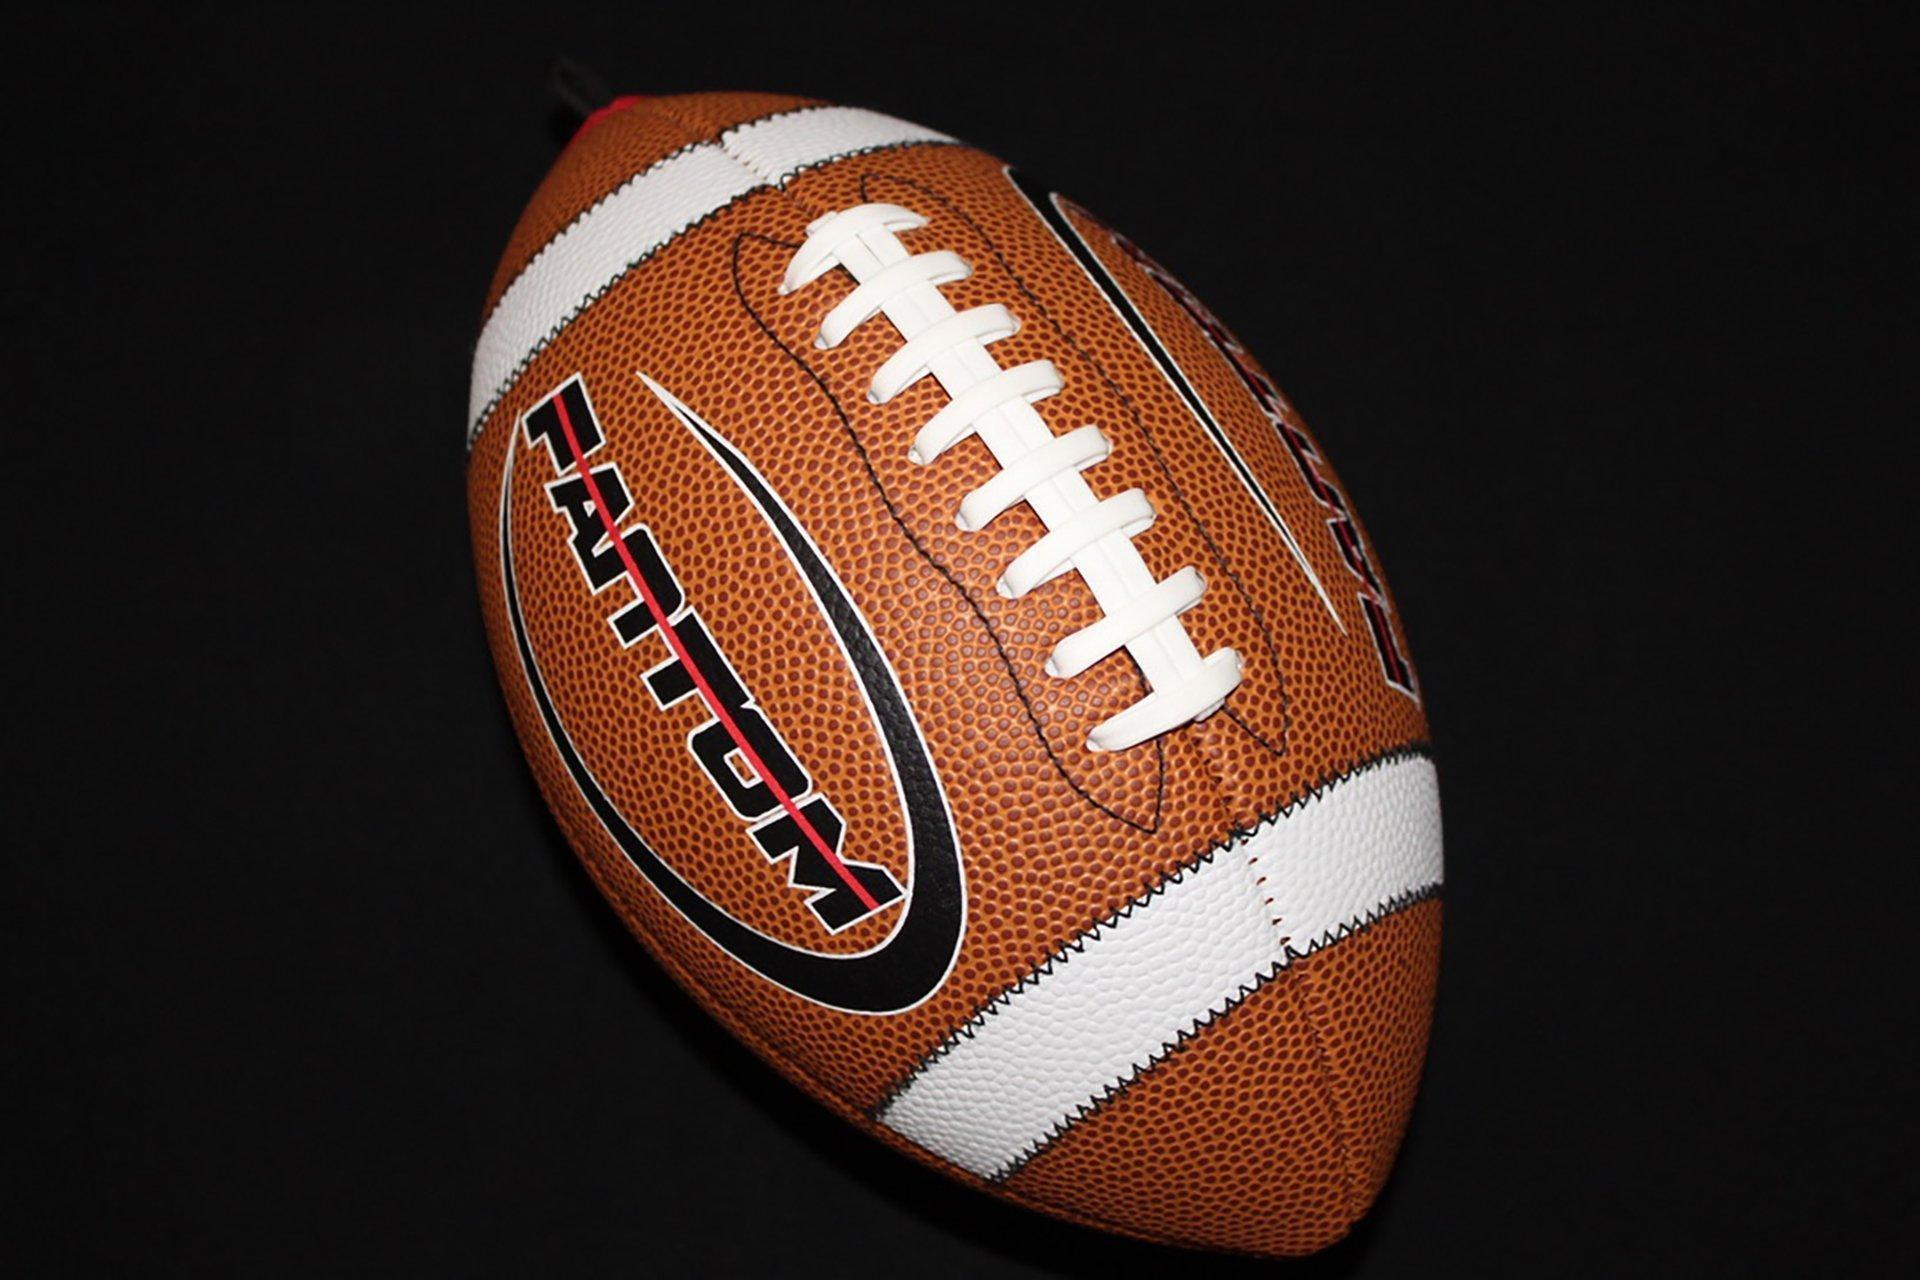Sports-Ball: (469, 93, 1444, 1257)
